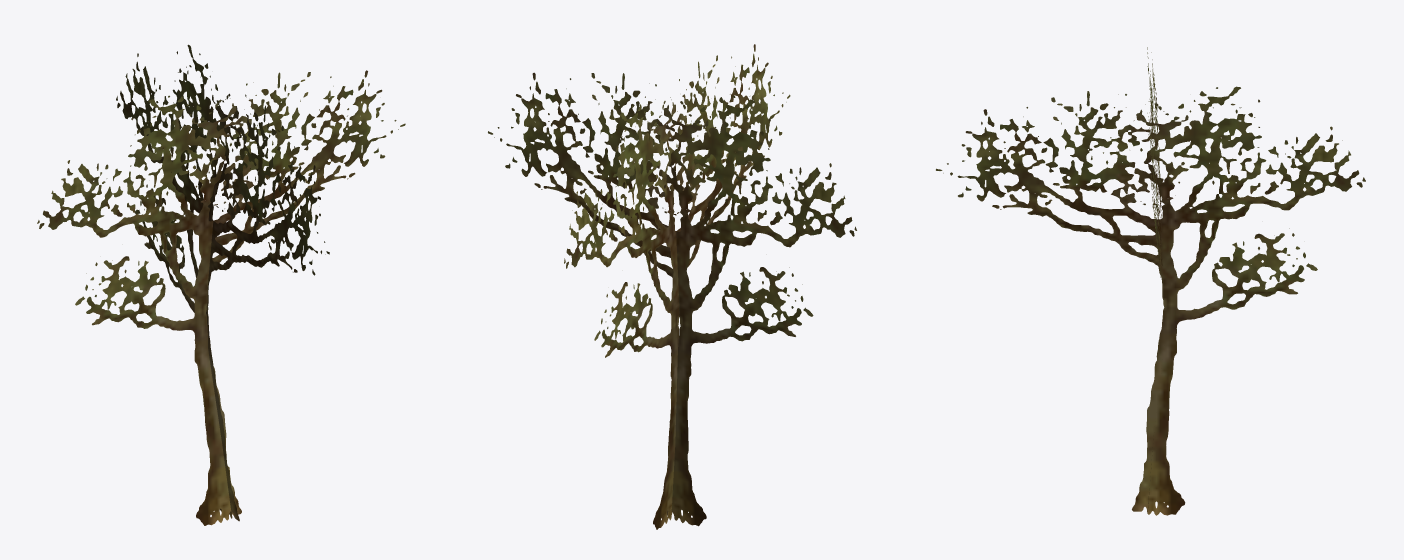
File: M4_Tree2.glb
The picture shows the model from 3 angles, left to right: view 1: azimuth 30°, elevation 25°; view 2: azimuth 150°, elevation 25°; view 3: azimuth 270°, elevation 25°; orthographic projection. The views are drawn at different scales.
Parts seen in each view (by area): view 1: M4_TREE2; view 2: M4_TREE2; view 3: M4_TREE2.
Boxes of the visible parts, x1,y1,x2,y2 form: M4_TREE2: (37,44,405,525); M4_TREE2: (488,44,856,529); M4_TREE2: (936,47,1365,515).
Size of the model in its own units: 3.31 by 3.39 by 3.42.
1 material, 1 textured.
